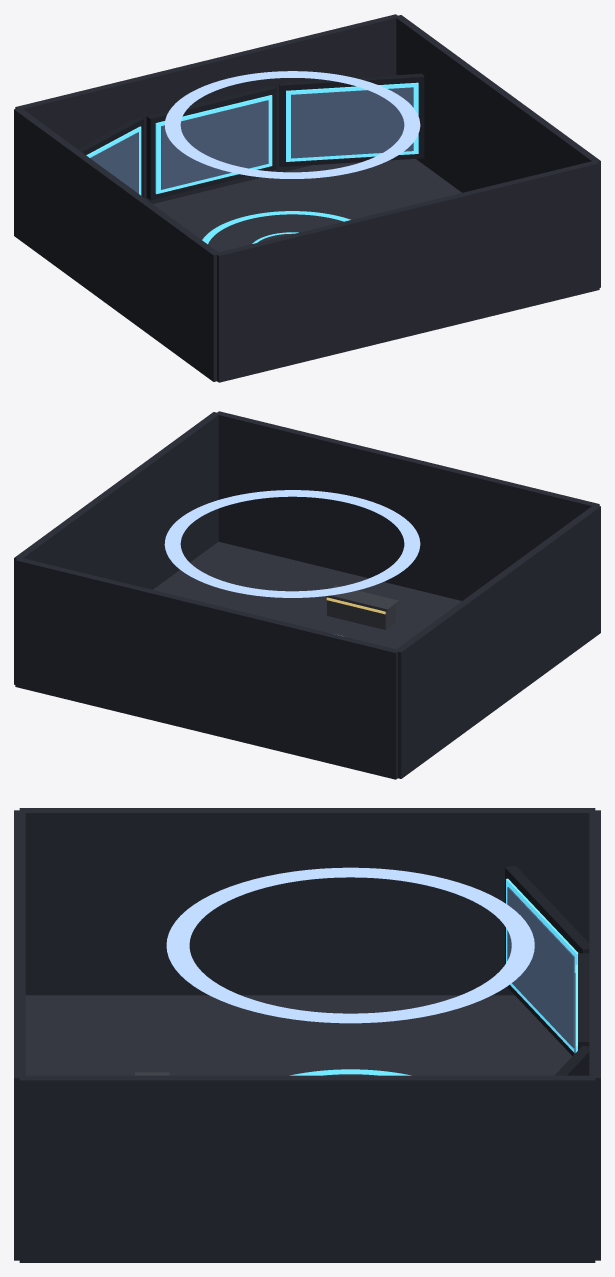
The model's file is venue.glb.
3 views of the same model, one above another, from view 1: azimuth 30°, elevation 25°; view 2: azimuth 150°, elevation 25°; view 3: azimuth 270°, elevation 25° (orthographic). The views are drawn at different scales.
Visible parts, largest first — view 1: arena_wall_front, arena_wall_left, arena_wall_back, arena_wall_right, arena_floor, screen_panel_03, screen_panel_02, arena_ceiling_cove, screen_bay_03, screen_bay_02, screen_bezel_02, screen_panel_01 (+3 smaller); view 2: arena_wall_back, arena_wall_front, arena_wall_left, arena_wall_right, arena_floor, arena_ceiling_cove, arena_desk_body, arena_desk_top; view 3: arena_wall_right, arena_wall_left, arena_floor, arena_ceiling_cove, screen_panel_01, arena_wall_back, arena_wall_front, screen_bay_01, screen_bay_02, screen_bezel_01, screen_bay_03.
Part boxes in pixels (left/top/right/bottom): arena_wall_front: left=215, top=161, right=599, bottom=382; arena_wall_left: left=14, top=107, right=218, bottom=381; arena_wall_back: left=15, top=14, right=398, bottom=203; arena_wall_right: left=396, top=15, right=600, bottom=287; arena_floor: left=153, top=159, right=461, bottom=252; screen_panel_03: left=291, top=87, right=413, bottom=158; screen_panel_02: left=161, top=100, right=268, bottom=189; arena_ceiling_cove: left=164, top=71, right=420, bottom=178; screen_bay_03: left=279, top=73, right=424, bottom=166; screen_bay_02: left=146, top=85, right=276, bottom=200; screen_bezel_02: left=155, top=95, right=272, bottom=194; screen_panel_01: left=90, top=132, right=138, bottom=193; arena_wall_back: left=15, top=558, right=398, bottom=779; arena_wall_front: left=215, top=411, right=599, bottom=600; arena_wall_left: left=396, top=505, right=600, bottom=778; arena_wall_right: left=14, top=412, right=218, bottom=684; arena_floor: left=153, top=541, right=461, bottom=649; arena_ceiling_cove: left=164, top=490, right=420, bottom=597; arena_desk_body: left=327, top=597, right=395, bottom=629; arena_desk_top: left=325, top=585, right=399, bottom=611; arena_wall_right: left=19, top=1075, right=595, bottom=1262; arena_wall_left: left=19, top=808, right=595, bottom=995; arena_floor: left=25, top=995, right=572, bottom=1075; arena_ceiling_cove: left=166, top=867, right=534, bottom=1023; screen_panel_01: left=507, top=887, right=574, bottom=1048; arena_wall_back: left=589, top=810, right=600, bottom=1260; arena_wall_front: left=14, top=810, right=25, bottom=1260; screen_bay_01: left=505, top=866, right=589, bottom=1055; screen_bay_02: left=578, top=953, right=589, bottom=1049; screen_bezel_01: left=506, top=878, right=578, bottom=1052; screen_bay_03: left=554, top=1045, right=589, bottom=1075.
Bounding box in the file's own units: 22.4 × 7 × 20.4.
